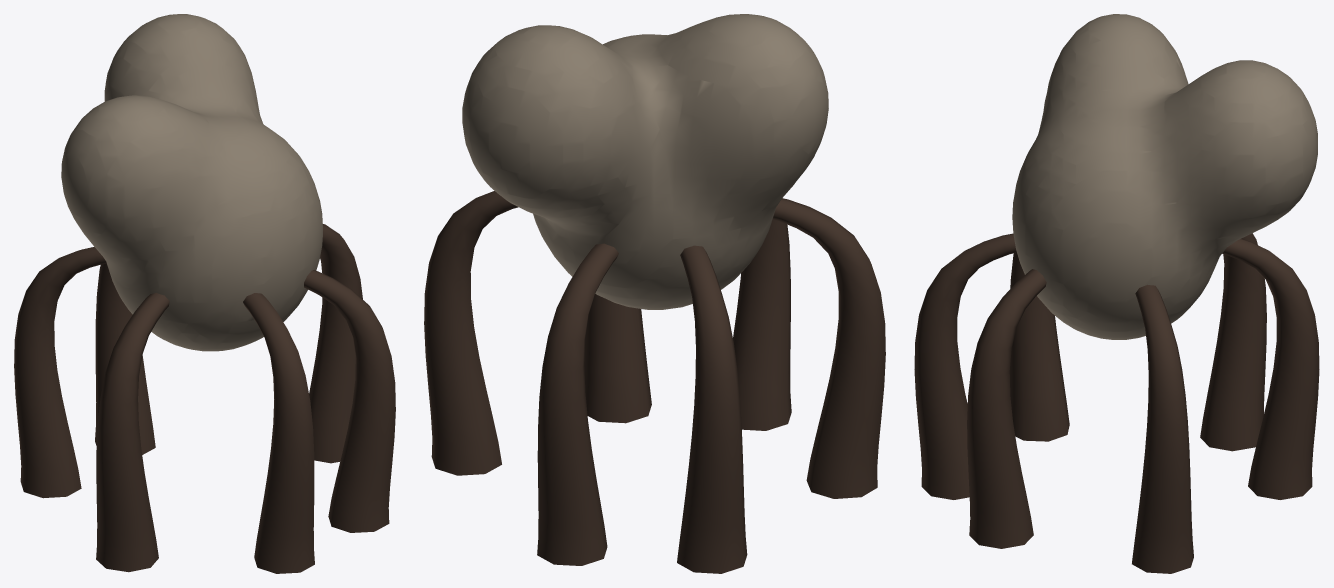
The model's file is quaternius-ultimate-space-pack-tree-blob-2-transformed.glb.
3 views of the same model, side by side, from view 1: azimuth 30°, elevation 25°; view 2: azimuth 150°, elevation 25°; view 3: azimuth 270°, elevation 25° (orthographic). The views are drawn at different scales.
Visible parts, largest first — view 1: Tree_Blob_2; view 2: Tree_Blob_2; view 3: Tree_Blob_2.
Part boxes in pixels (<box>): Tree_Blob_2: <box>14,14,395,573</box>; Tree_Blob_2: <box>424,14,885,573</box>; Tree_Blob_2: <box>914,14,1319,573</box>.
Bounding box in the file's own units: 3.69 × 4.61 × 3.86.
1 material, 1 textured.
